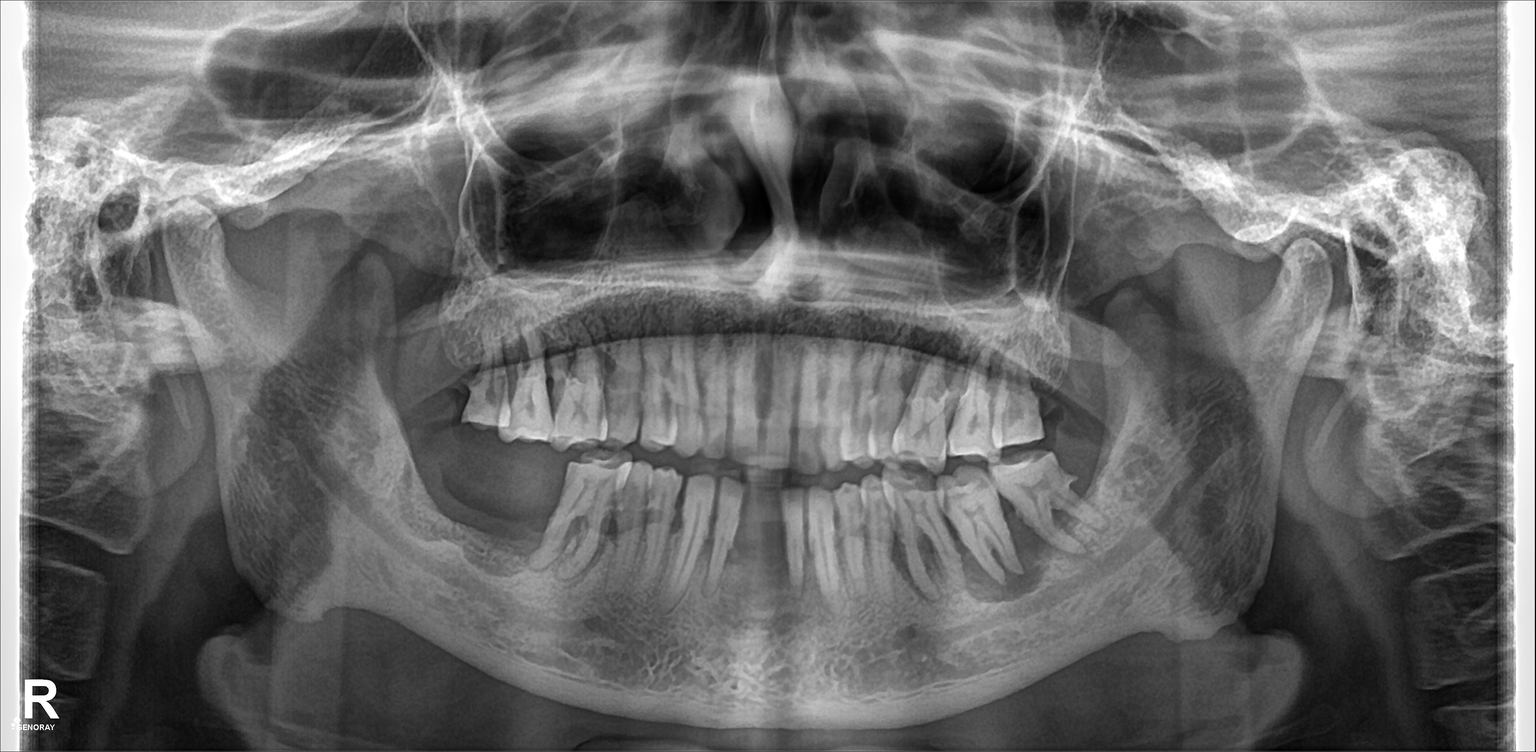Missing Tooth: (1034, 359, 1097, 448), (737, 493, 782, 606), (471, 443, 517, 553), (514, 465, 562, 554), (417, 437, 460, 530), (430, 354, 472, 422)
Periapical Lesion: (954, 501, 1050, 590)
